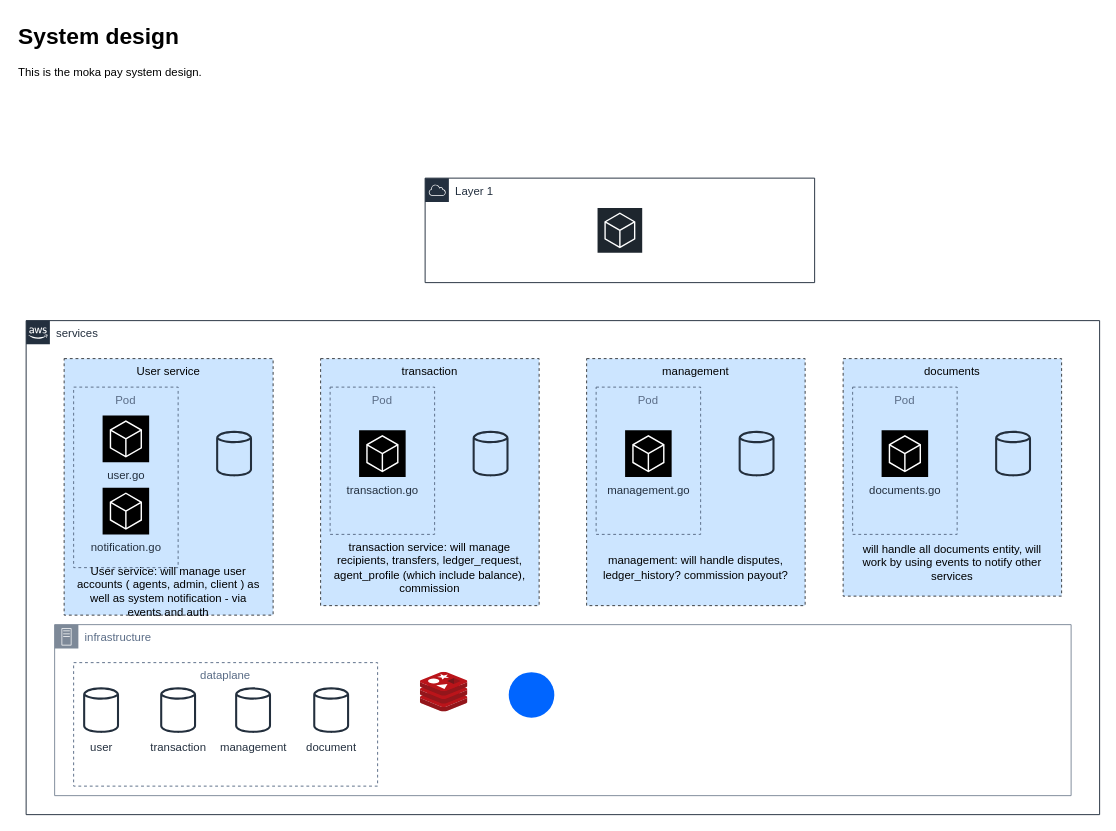
This 1116x831 diagram has some shape labels left out. The centre of each missing label's shape, as x and y in pixels:
API gateway: (x=619, y=230)
MM: (x=531, y=694)
psql documents: (x=1013, y=453)
psql management: (x=756, y=453)
psql transaction: (x=490, y=453)
psql user: (x=234, y=453)
